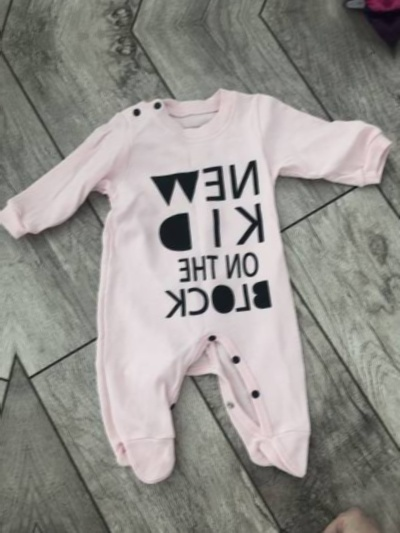Body: (0, 56, 400, 512), (0, 104, 34, 533), (400, 6, 400, 462)
